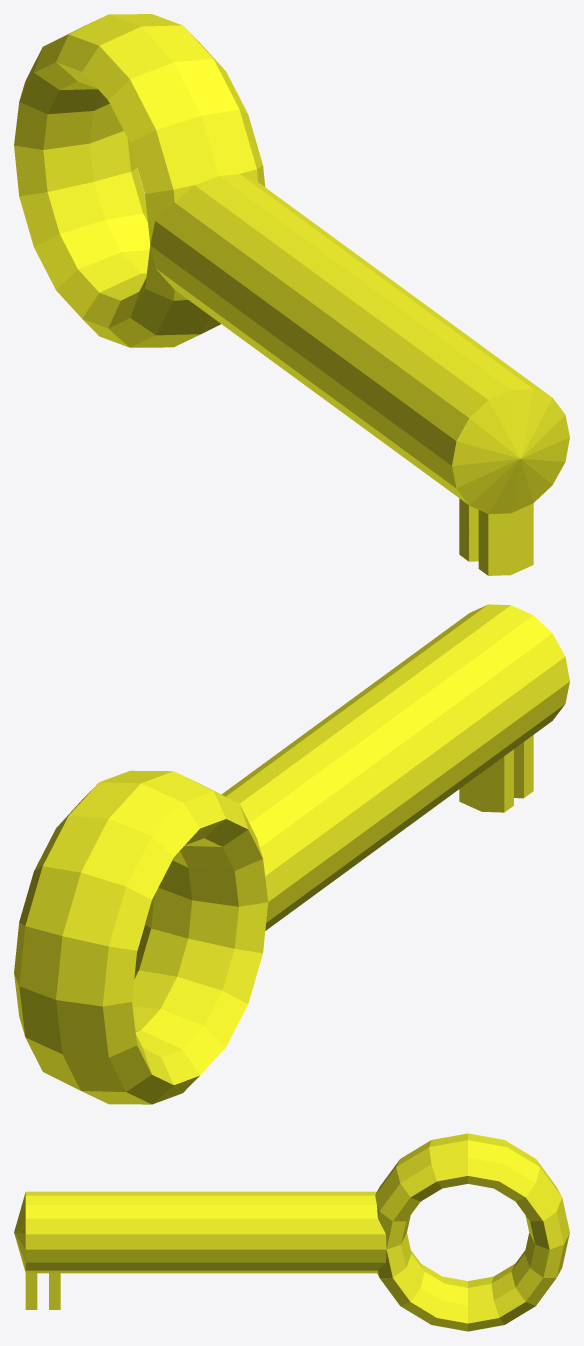
File: Key.fbx
3 views of the same model, one above another, from view 1: azimuth 30°, elevation 25°; view 2: azimuth 150°, elevation 25°; view 3: azimuth 270°, elevation 25° (orthographic). The views are drawn at different scales.
Parts seen in each view (by area): view 1: Key; view 2: Key; view 3: Key.
Part boxes in pixels (x1,y1,x2,y2): Key: [14, 14, 569, 575]; Key: [14, 604, 569, 1104]; Key: [14, 1133, 569, 1331].
Bounding box in the file's own units: 1 × 2.5 × 6.82.
1 material, 1 textured.
